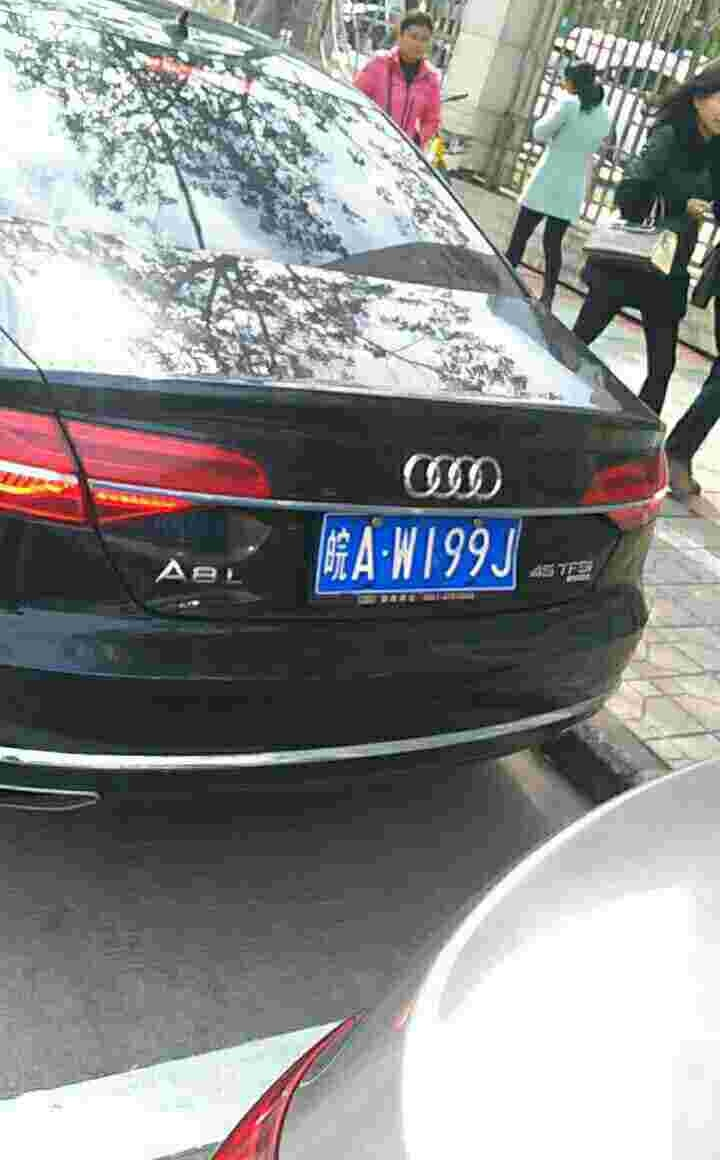license_plate: (310, 518, 520, 592)
